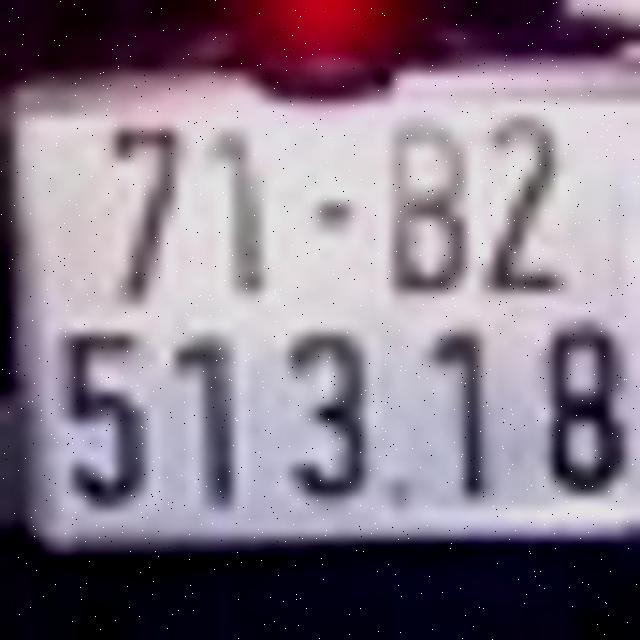1: (173, 325, 245, 510), (426, 320, 494, 499), (206, 121, 274, 296)
2: (484, 106, 570, 296)
3: (283, 324, 372, 503)
5: (56, 323, 154, 512)
7: (105, 118, 187, 305)
8: (545, 314, 627, 496)
B: (384, 111, 473, 296)
